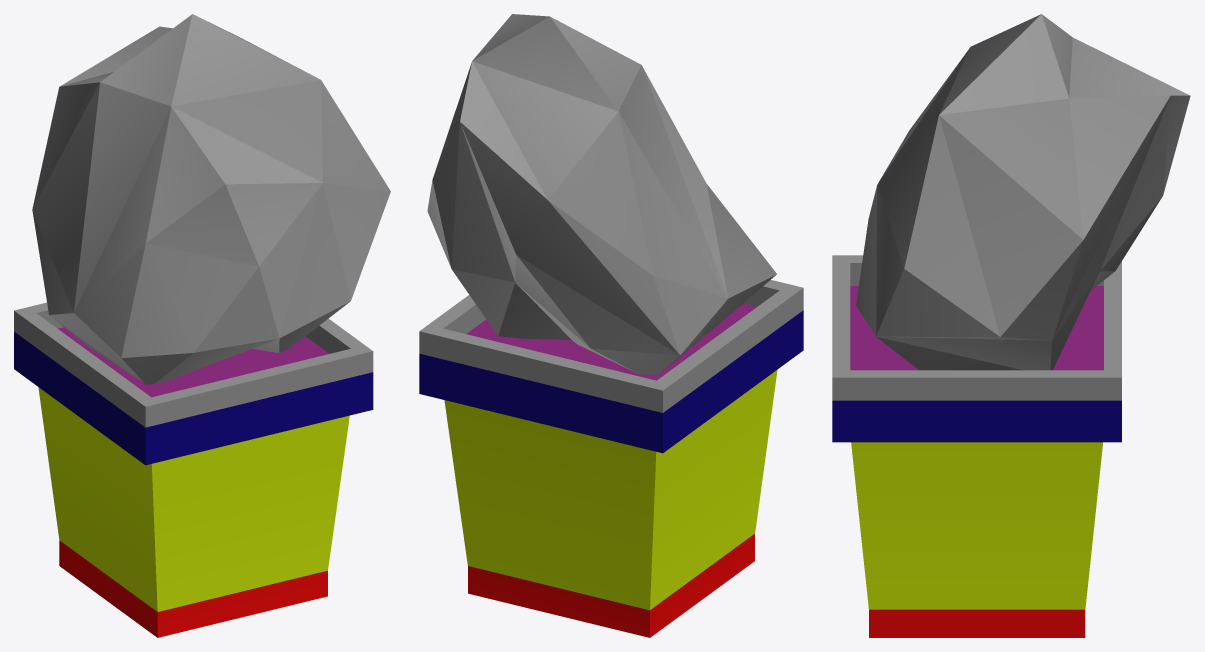
File: store_bush_01.fbx
The picture shows the model from 3 angles, left to right: view 1: azimuth 30°, elevation 25°; view 2: azimuth 150°, elevation 25°; view 3: azimuth 270°, elevation 25°; orthographic projection. The views are drawn at different scales.
Visible parts, largest first — view 1: Hedra001, Box001; view 2: Box001, Hedra001; view 3: Hedra001, Box001.
Part boxes in pixels (bbox=[...]): Hedra001: bbox=[32, 14, 390, 384]; Box001: bbox=[14, 302, 373, 637]; Box001: bbox=[419, 280, 803, 637]; Hedra001: bbox=[427, 14, 776, 374]; Hedra001: bbox=[856, 14, 1190, 370]; Box001: bbox=[832, 255, 1121, 637].
Bounding box in the file's own units: 54.99 × 55.6 × 102.
